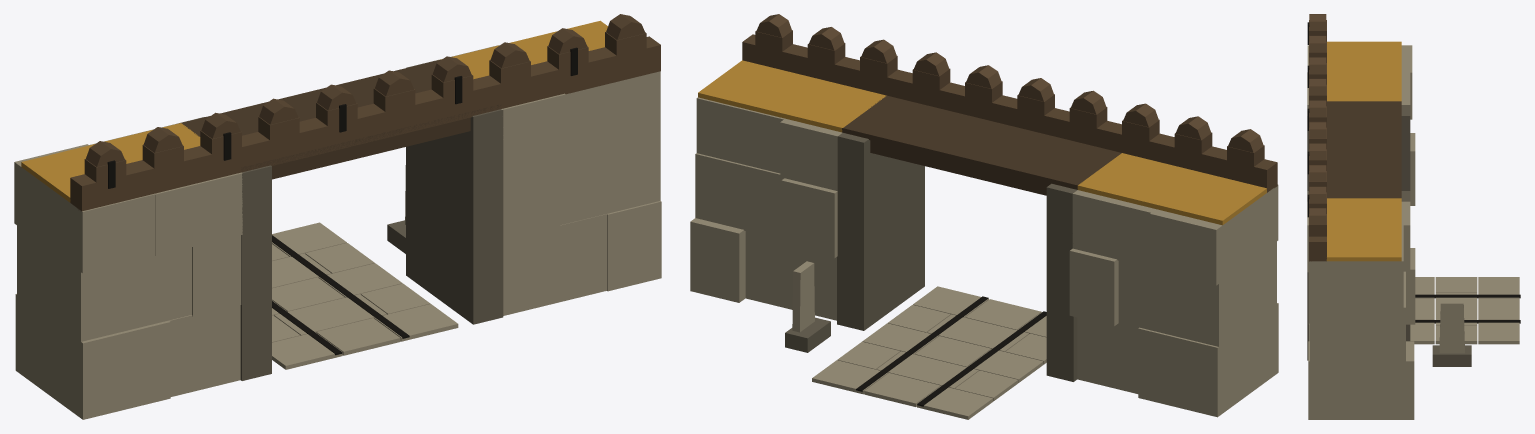
The model's file is BronzeGateApproach.fbx.
3 renders of one model, left to right at view 1: azimuth 30°, elevation 25°; view 2: azimuth 150°, elevation 25°; view 3: azimuth 270°, elevation 25°, orthographic. The views are drawn at different scales.
Visible parts, largest first — view 1: BronzeGateApproach; view 2: BronzeGateApproach; view 3: BronzeGateApproach.
Boxes of the visible parts, x1,y1,x2,y2 form: BronzeGateApproach: [14, 14, 661, 419]; BronzeGateApproach: [690, 14, 1278, 419]; BronzeGateApproach: [1307, 14, 1520, 419].
Size of the model in its own units: 1202 by 521 by 502.
Materials: 6 (6 with a texture image).
